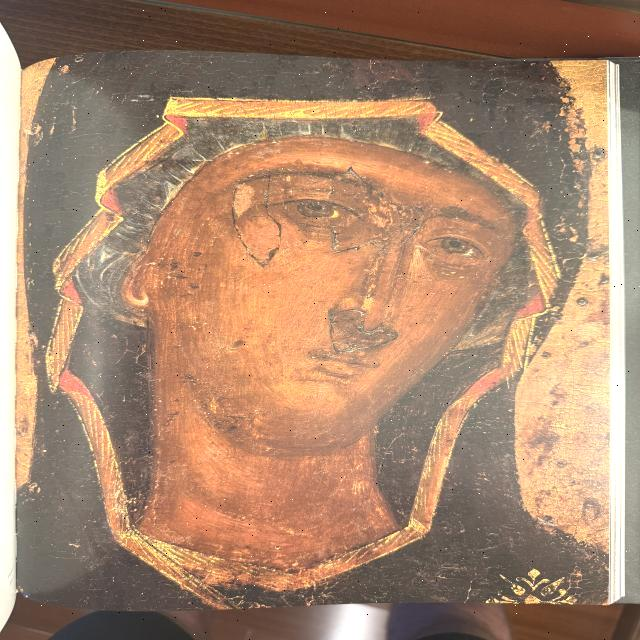mary: (30, 59, 606, 605)
